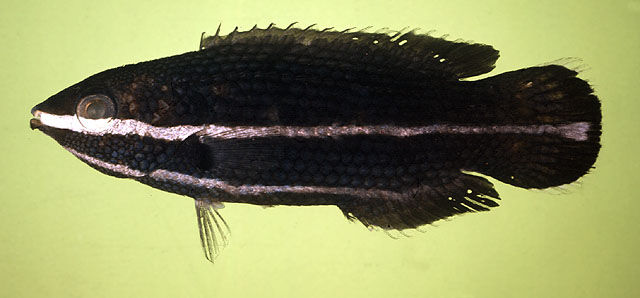fish: (29, 21, 604, 264)
